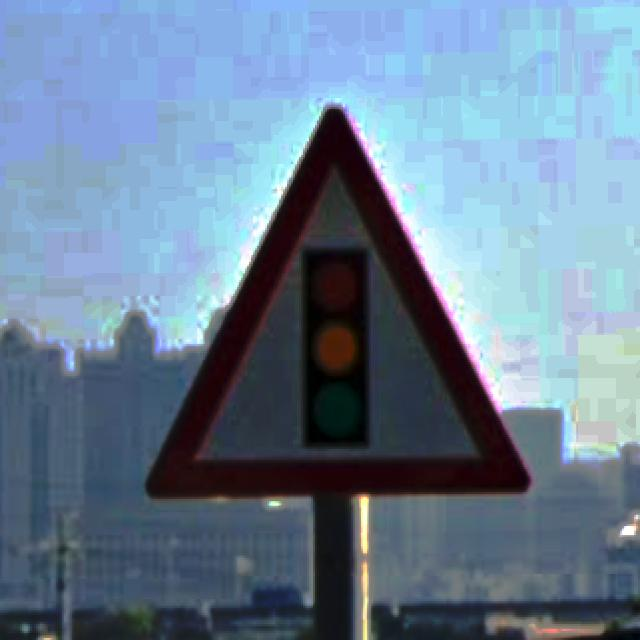signalahead: (144, 103, 530, 501)
